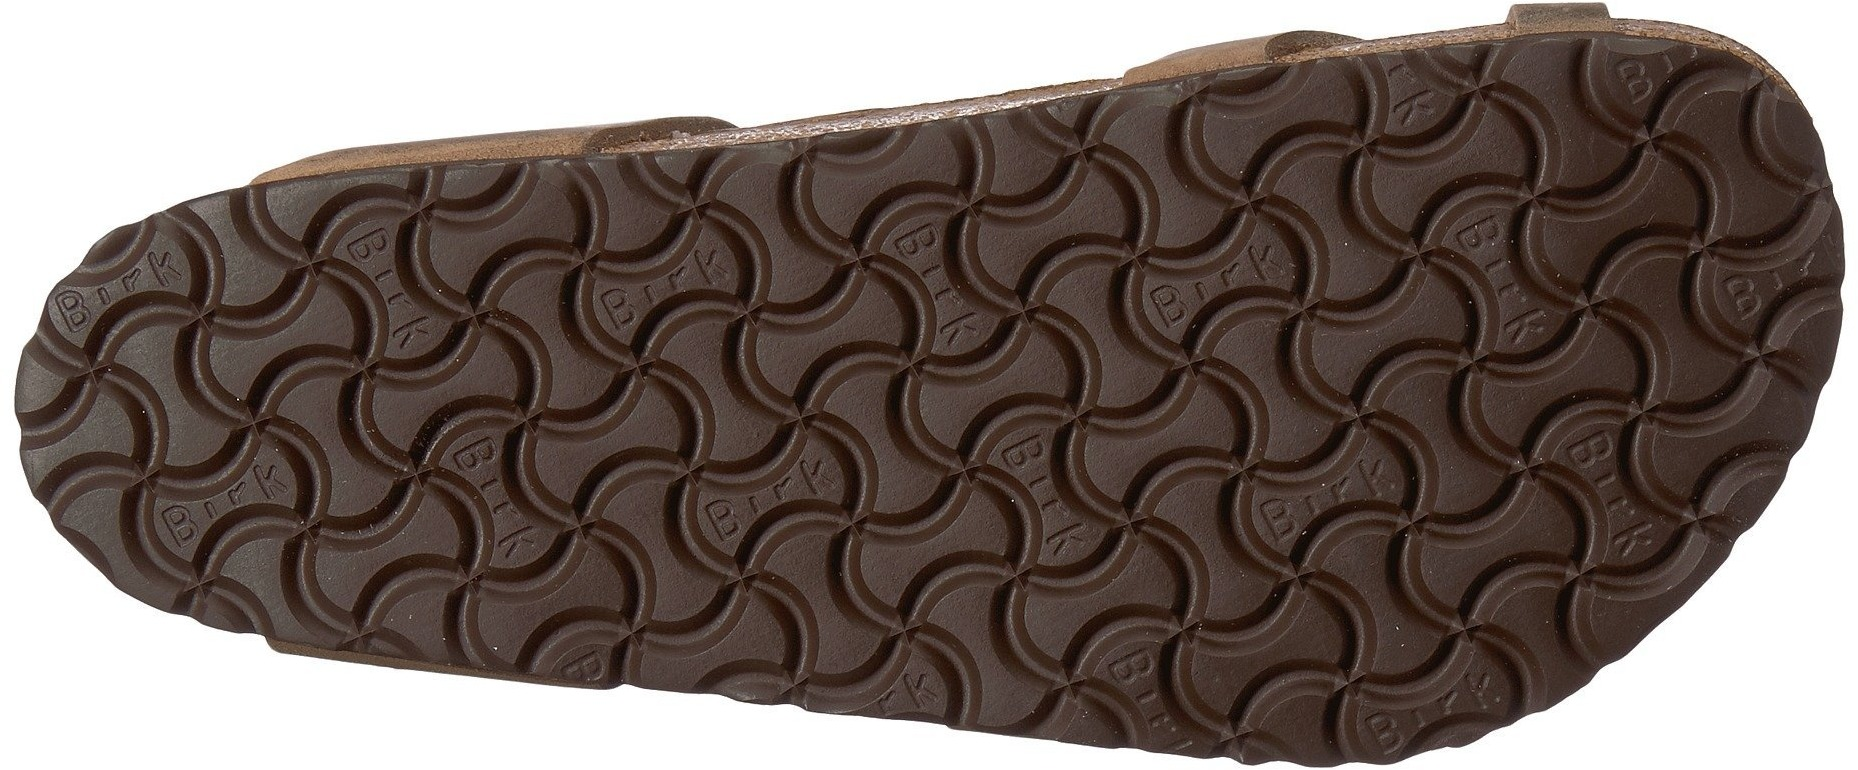bowtie: (651, 154, 1122, 675), (666, 195, 1042, 607), (1138, 347, 1550, 688), (1375, 91, 1689, 408), (1450, 54, 1755, 331), (1136, 94, 1434, 333), (71, 299, 355, 548), (367, 174, 642, 426), (365, 434, 629, 665), (1109, 136, 1358, 368), (668, 396, 874, 591), (1563, 344, 1758, 530), (839, 192, 1025, 371), (943, 403, 1122, 580)
star: (1010, 353, 1154, 500), (1401, 550, 1536, 684), (1588, 77, 1715, 190), (411, 259, 537, 368), (411, 538, 524, 636), (1328, 100, 1431, 201), (1607, 361, 1699, 460), (213, 374, 307, 466)
text: (666, 195, 1042, 607), (1375, 91, 1689, 408), (71, 299, 355, 548), (365, 434, 629, 665), (1109, 136, 1358, 368), (1010, 353, 1154, 500), (1242, 453, 1420, 548), (1145, 239, 1293, 328), (1460, 203, 1535, 340), (1572, 412, 1644, 556)
